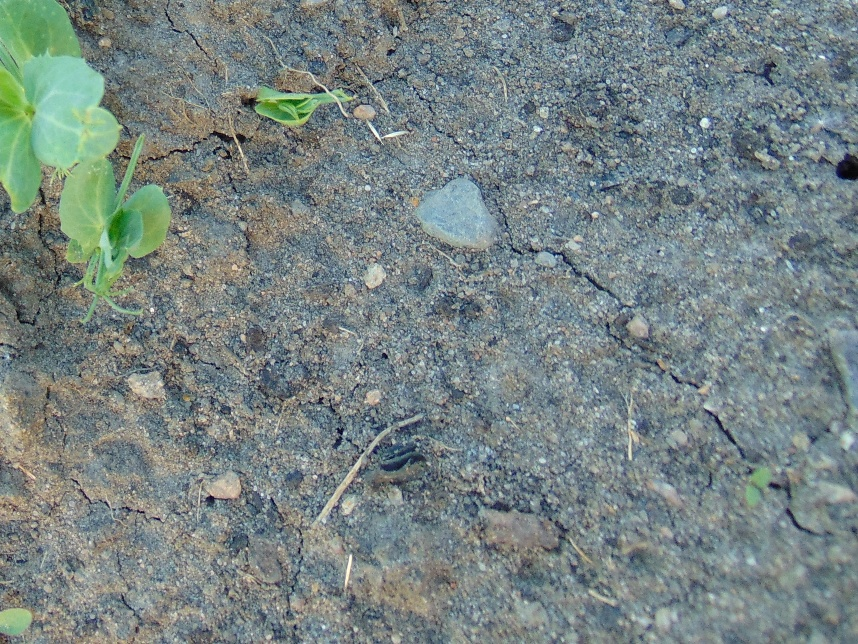crop: (1, 1, 123, 216), (57, 130, 170, 322), (246, 87, 358, 125)
weed: (739, 465, 772, 508), (1, 607, 35, 635)
